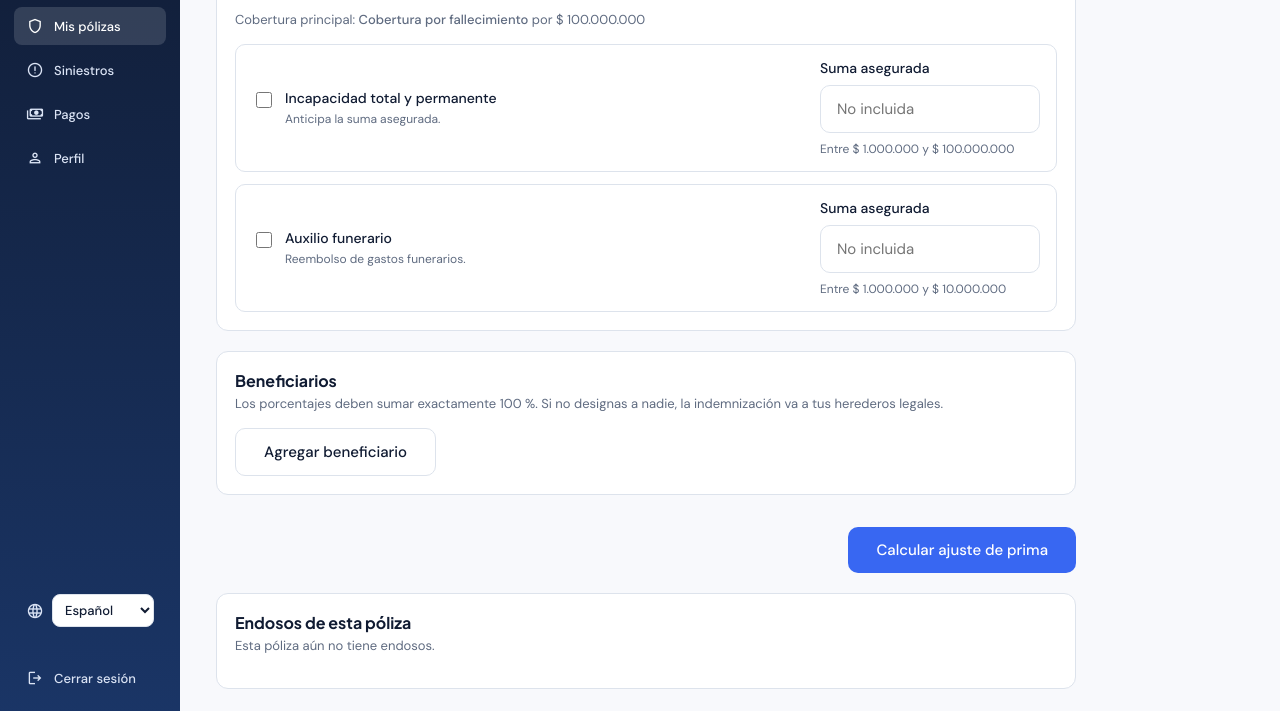
Test case: muestra el mensaje del servidor cuando rechaza la solicitud
(page scrolled)
Step 1. Click the button "Calcular ajuste de prima" → (962, 550), box [848, 527, 1076, 573]
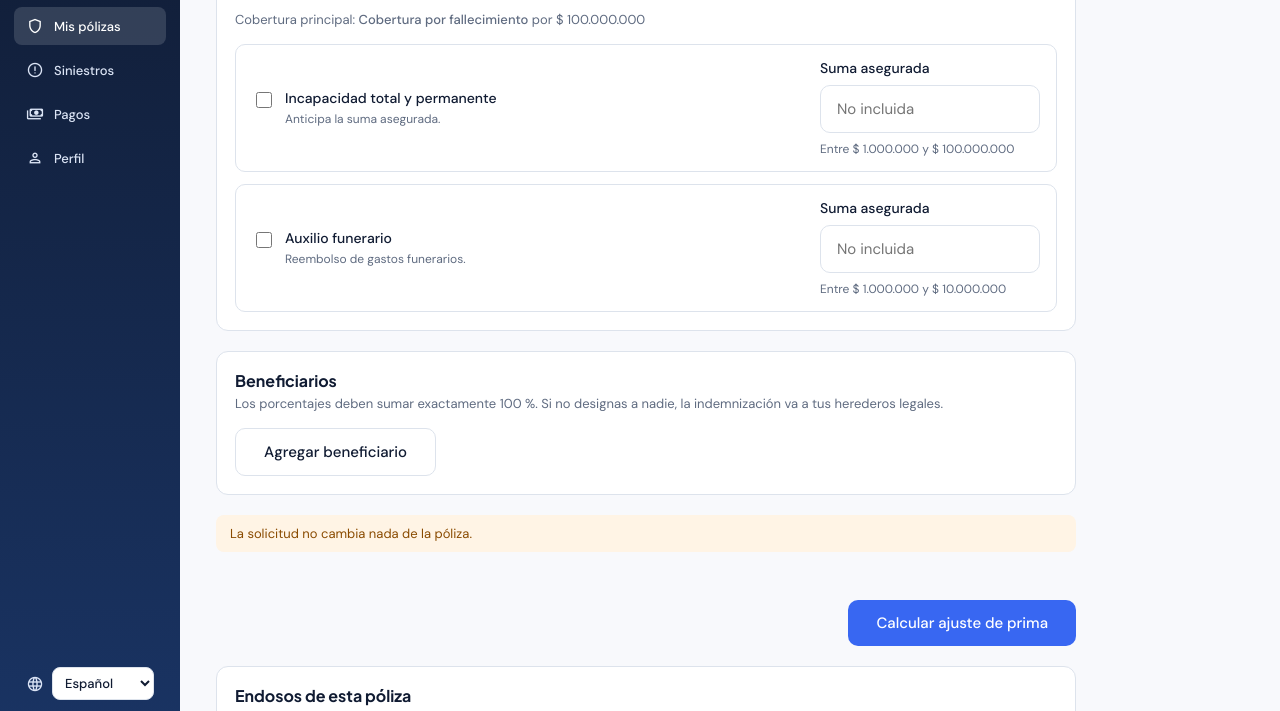
Expected: the message reads "La solicitud no cambia nada de la póliza.", [230, 525, 472, 542]
